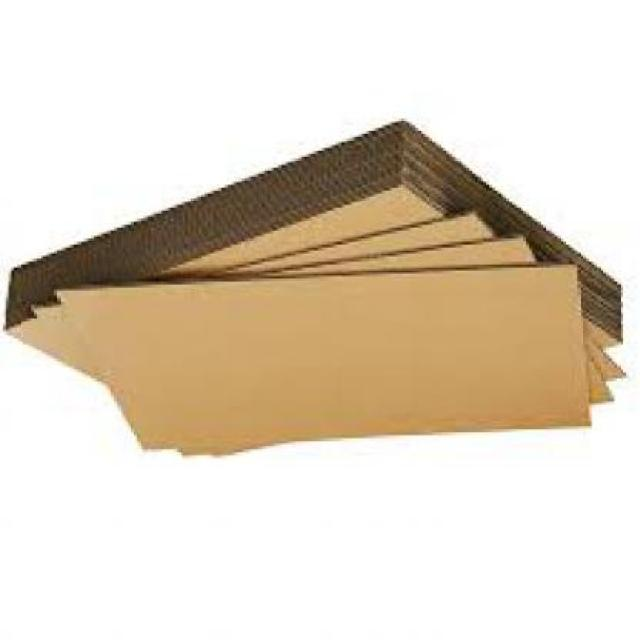CARDBOARD: (0, 119, 620, 381), (26, 236, 612, 461), (0, 205, 623, 384), (51, 258, 589, 456)
